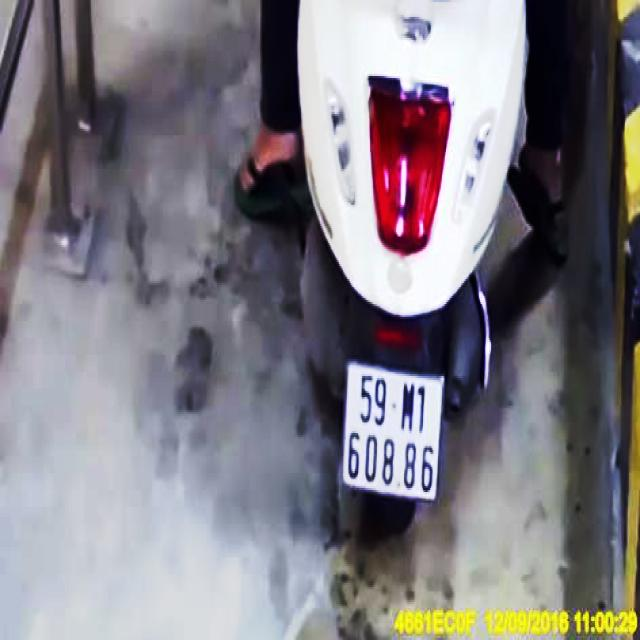license_plate: (344, 359, 444, 502)
